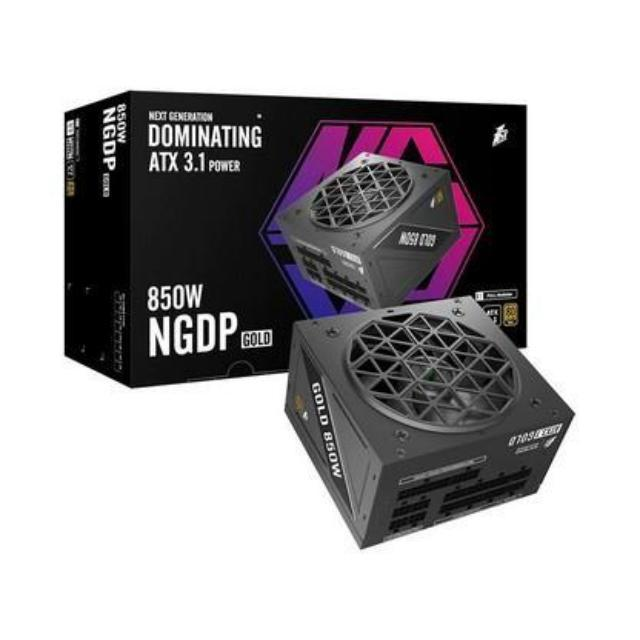PSU: (280, 290, 582, 558)
